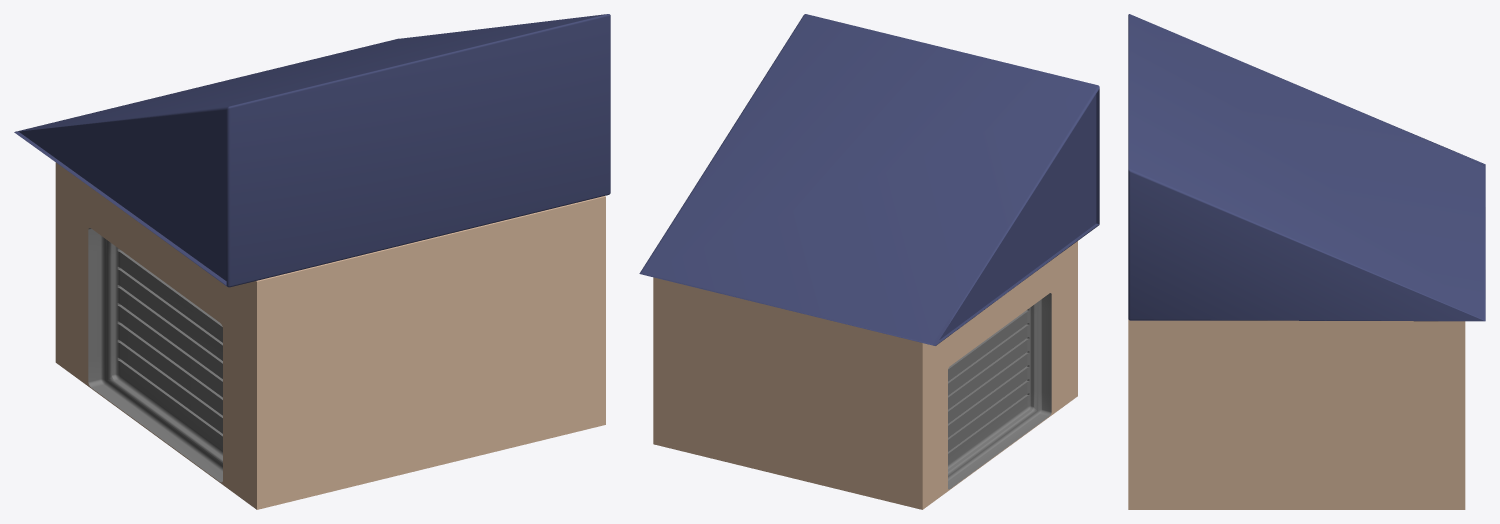
File: Side House3.fbx
3 renders of one model, left to right at view 1: azimuth 30°, elevation 25°; view 2: azimuth 150°, elevation 25°; view 3: azimuth 270°, elevation 25°, orthographic. The views are drawn at different scales.
Parts seen in each view (by area): view 1: Plane.008; view 2: Plane.008; view 3: Plane.008.
Part boxes in pixels (x1,y1,x2,y2): Plane.008: (14,14,610,509); Plane.008: (639,14,1099,509); Plane.008: (1128,14,1485,509).
Bounding box in the file's own units: 441 × 450 × 426.
